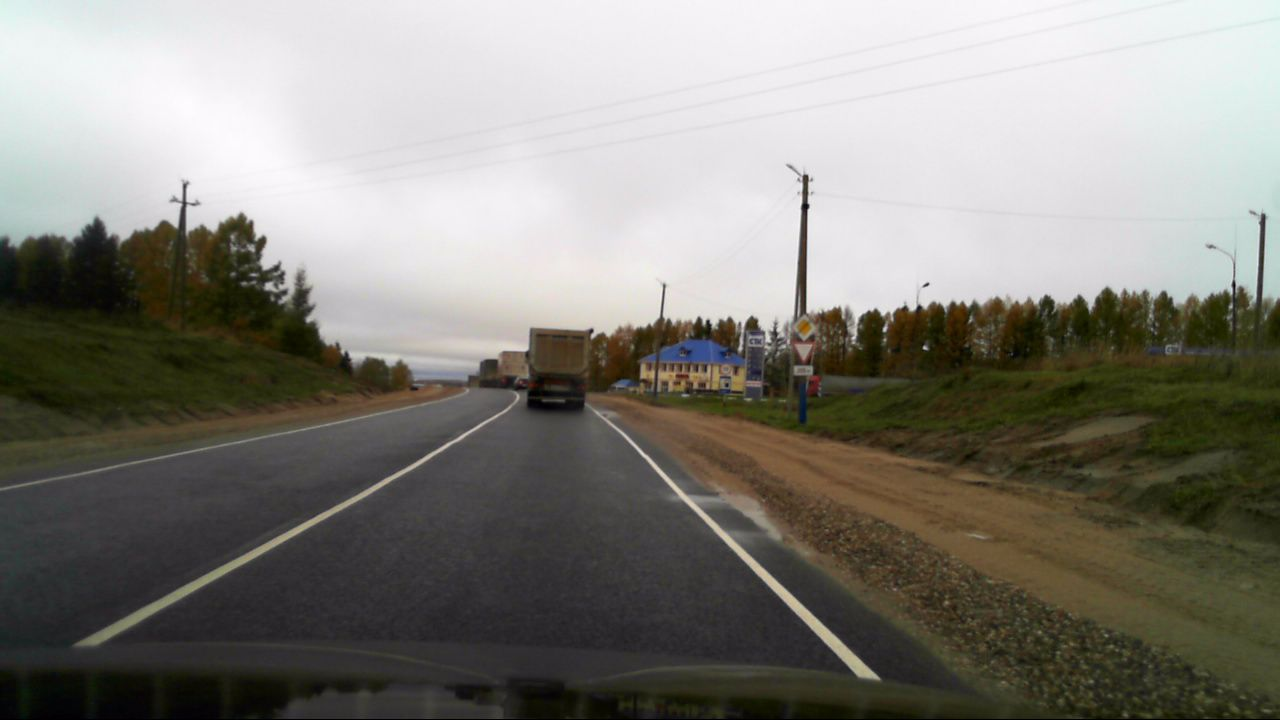main road: (791, 314, 817, 341)
